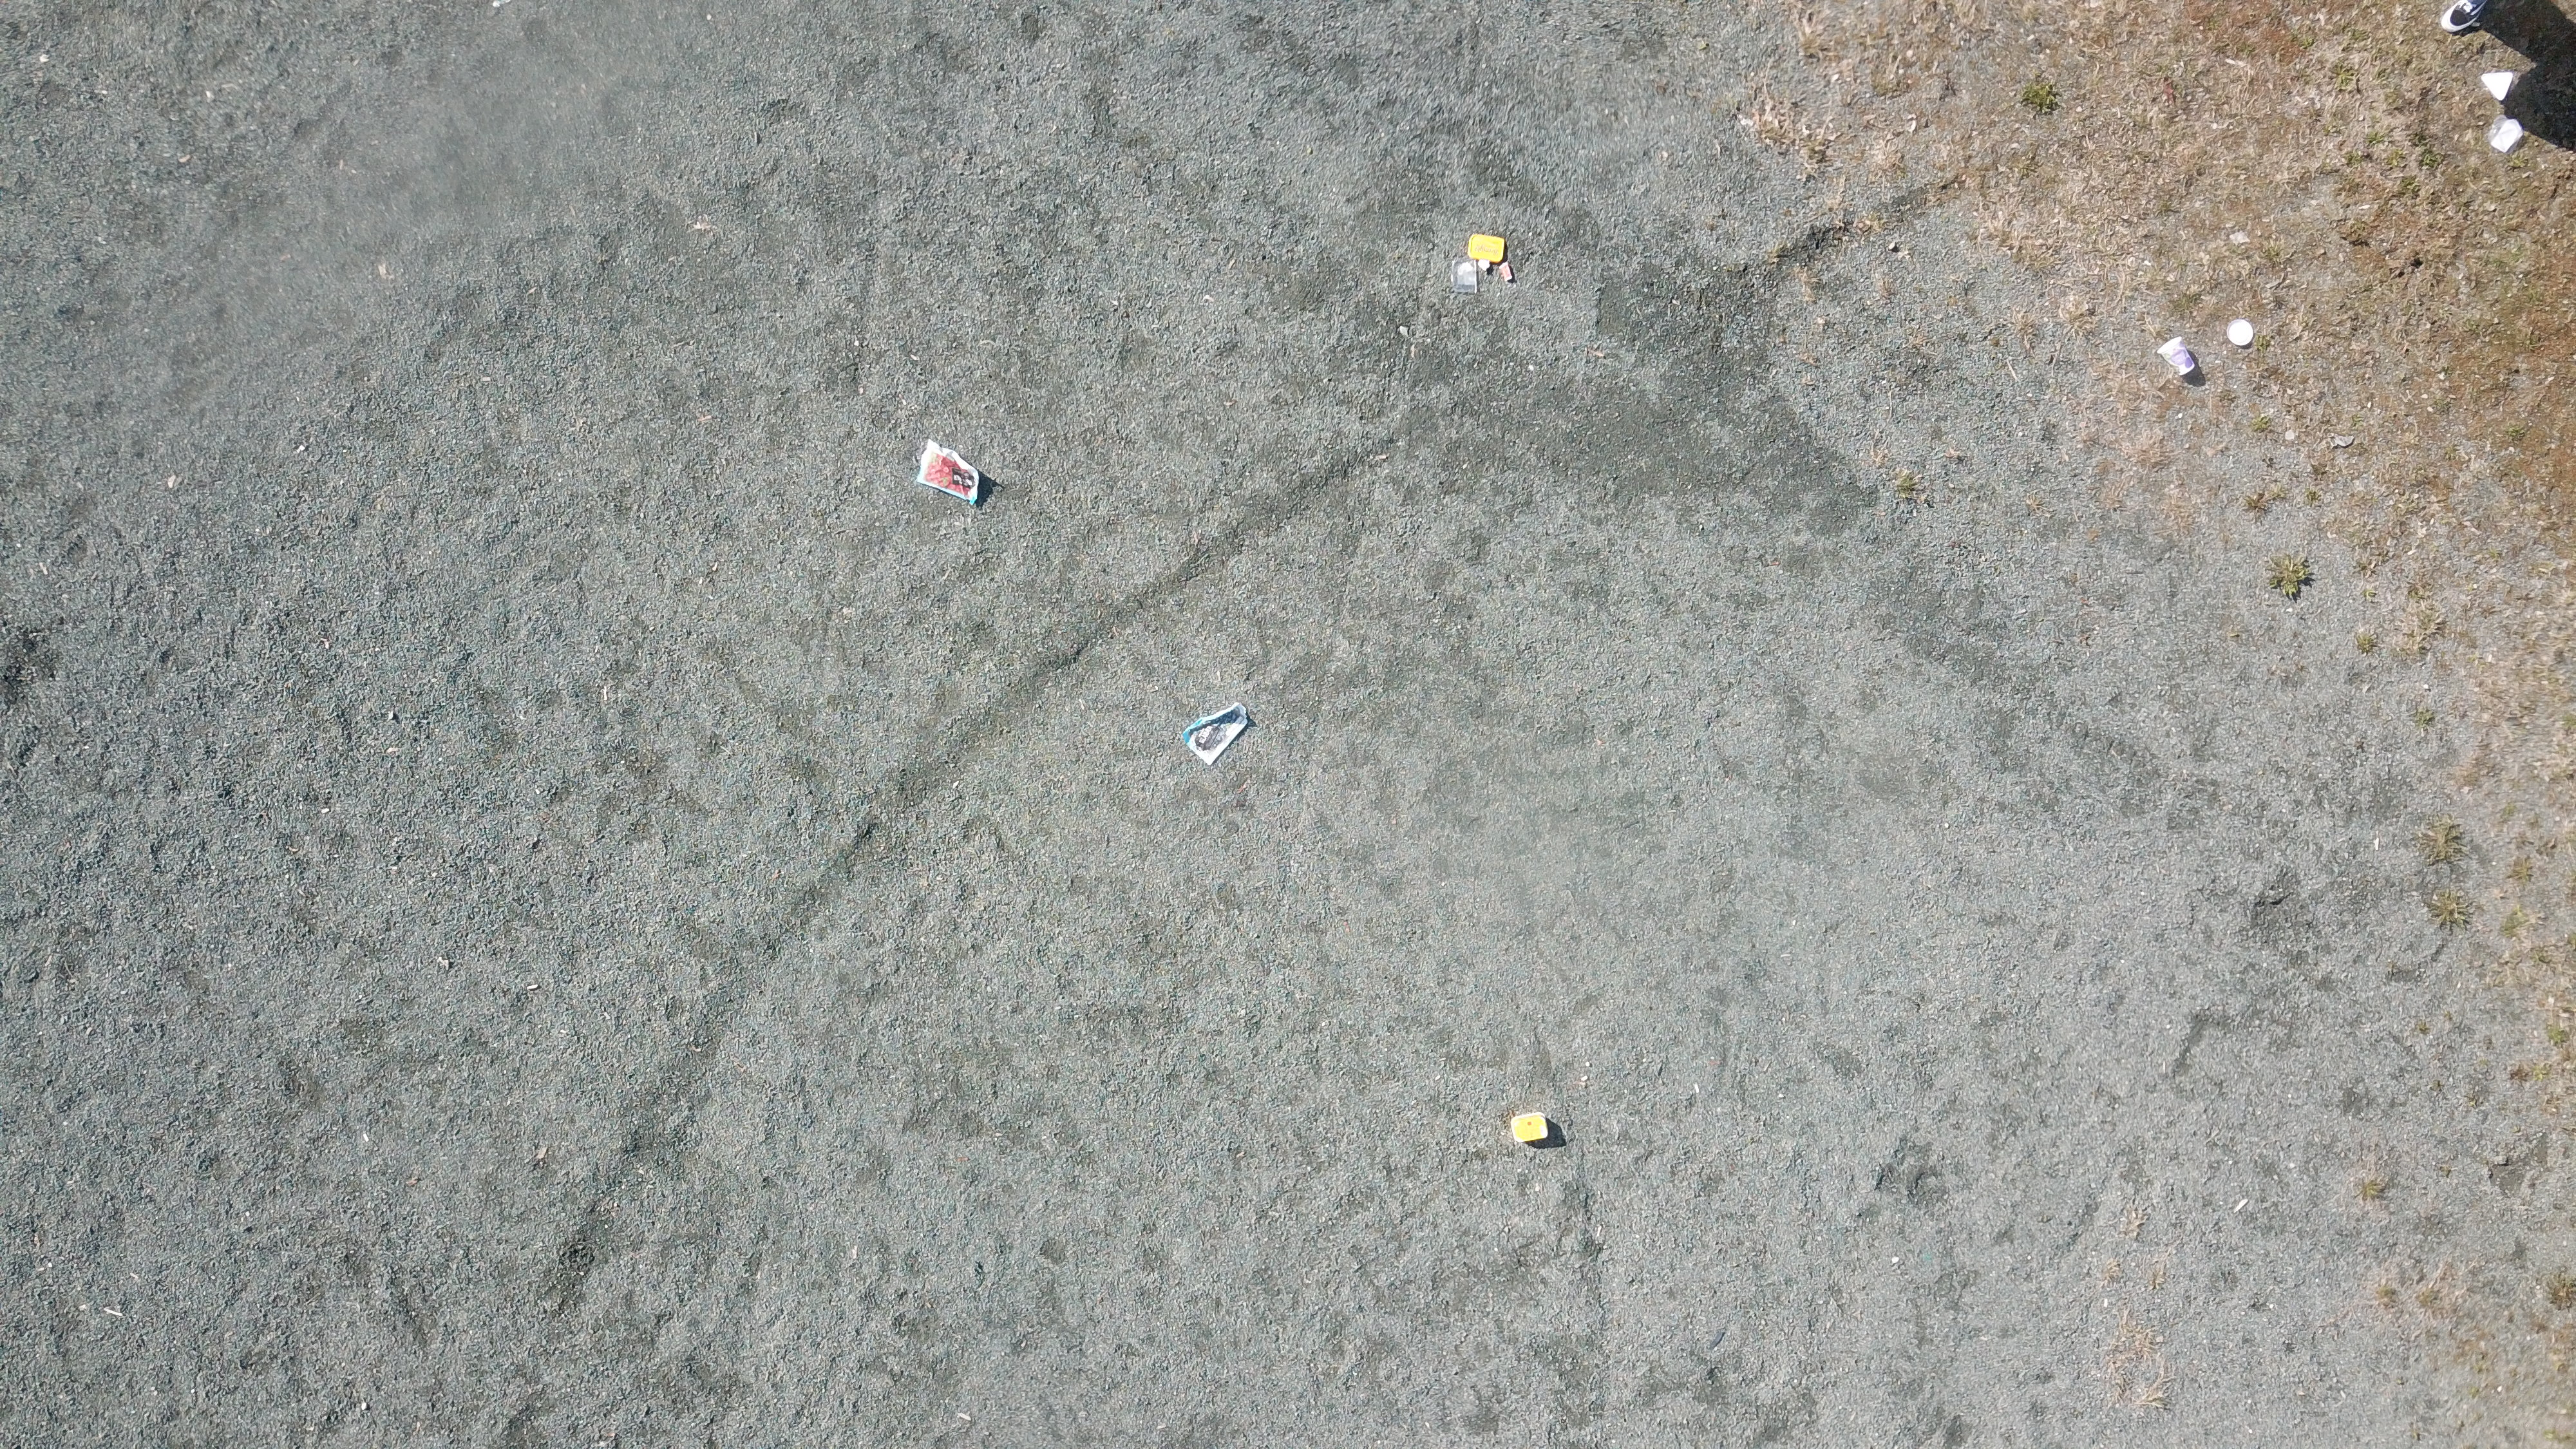Plastic: (915, 441, 987, 506), (1184, 701, 1254, 761), (2486, 117, 2525, 154), (2158, 336, 2194, 375), (1465, 232, 1507, 264), (1511, 1111, 1550, 1145), (1449, 260, 1483, 297), (2479, 73, 2512, 103), (2227, 318, 2254, 345), (1500, 262, 1513, 283)
